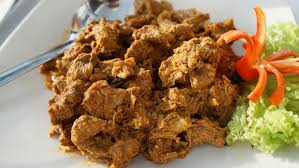rendang: (45, 2, 249, 168)
